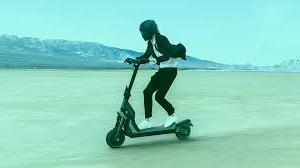helmet: (104, 20, 193, 149)
